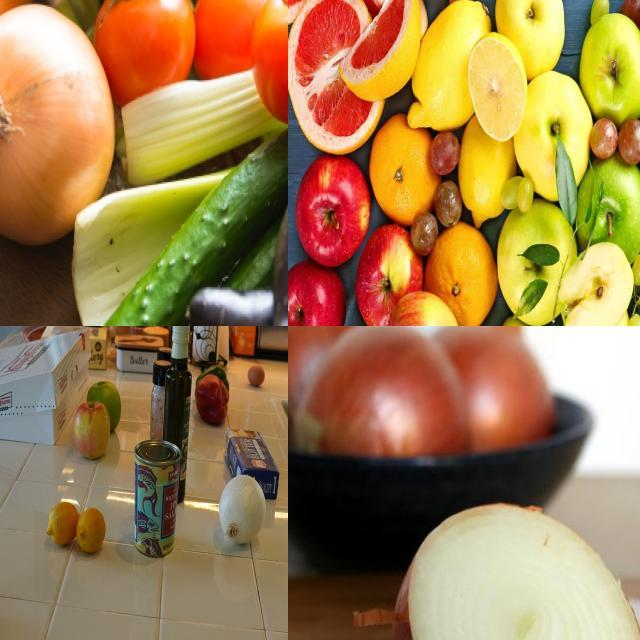bell_pepper: (197, 377, 230, 425), (201, 364, 231, 401)
egg: (249, 364, 267, 389)
onion: (387, 501, 640, 640), (1, 8, 116, 245), (220, 475, 270, 547)
